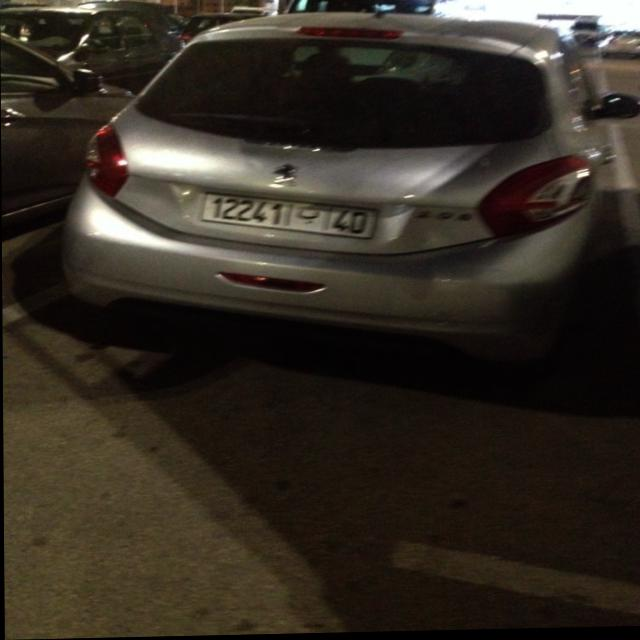License-Plate: (204, 194, 378, 240)
